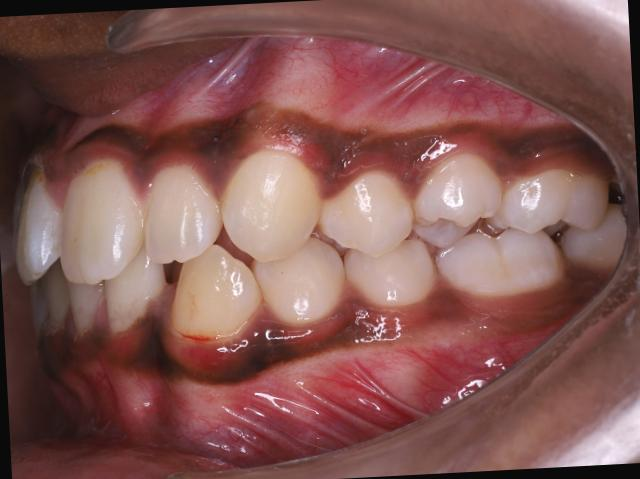canine class III 1/4: (160, 142, 352, 360)
molar class III 1/2: (430, 159, 618, 316)
